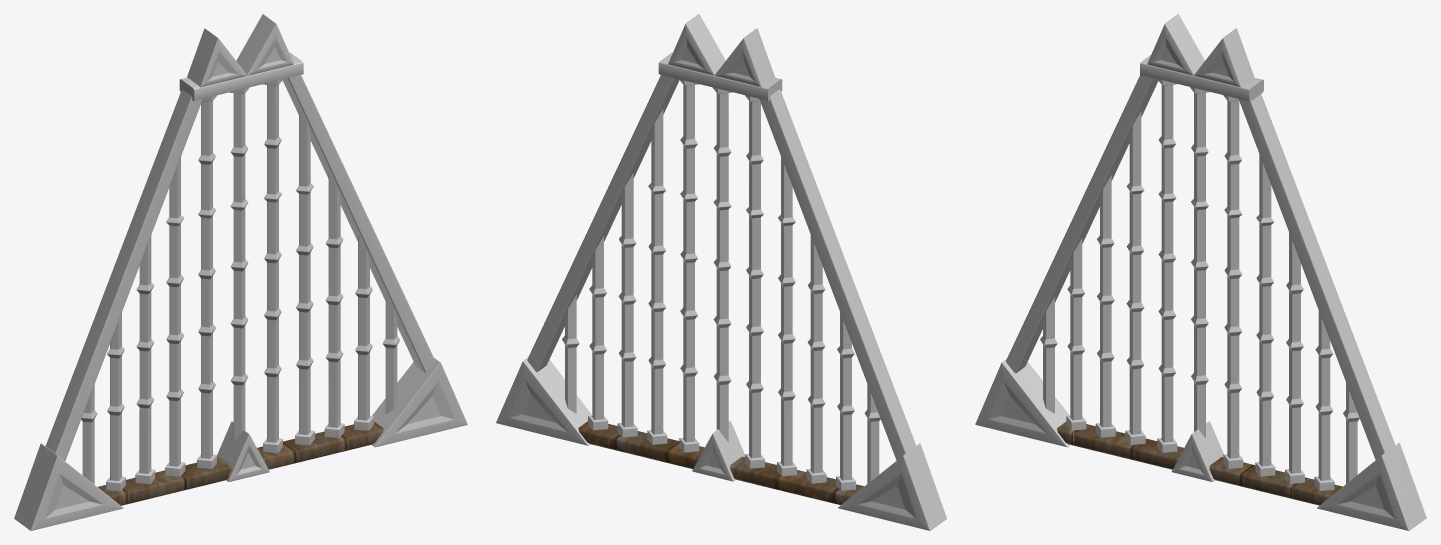
The picture shows the model from 3 angles, left to right: view 1: azimuth 30°, elevation 25°; view 2: azimuth 150°, elevation 25°; view 3: azimuth 330°, elevation 25°; orthographic projection.
Visible parts, largest first — view 1: SM_KuldraArena_Gate_LOD0; view 2: SM_KuldraArena_Gate_LOD0; view 3: SM_KuldraArena_Gate_LOD0.
Boxes of the visible parts, bbox=[...] form: SM_KuldraArena_Gate_LOD0: bbox=[14, 14, 467, 530]; SM_KuldraArena_Gate_LOD0: bbox=[496, 14, 946, 530]; SM_KuldraArena_Gate_LOD0: bbox=[975, 14, 1426, 530].
Size of the model in its own units: 12.96 by 12.69 by 0.965.
